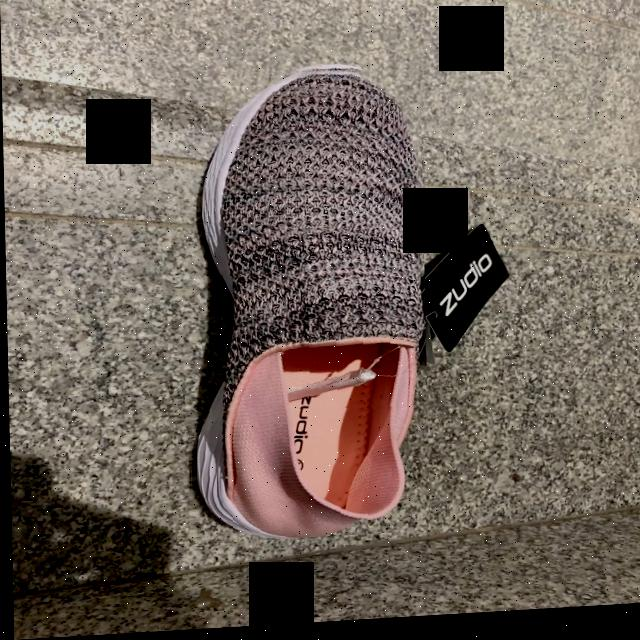shoe: (189, 73, 424, 543)
